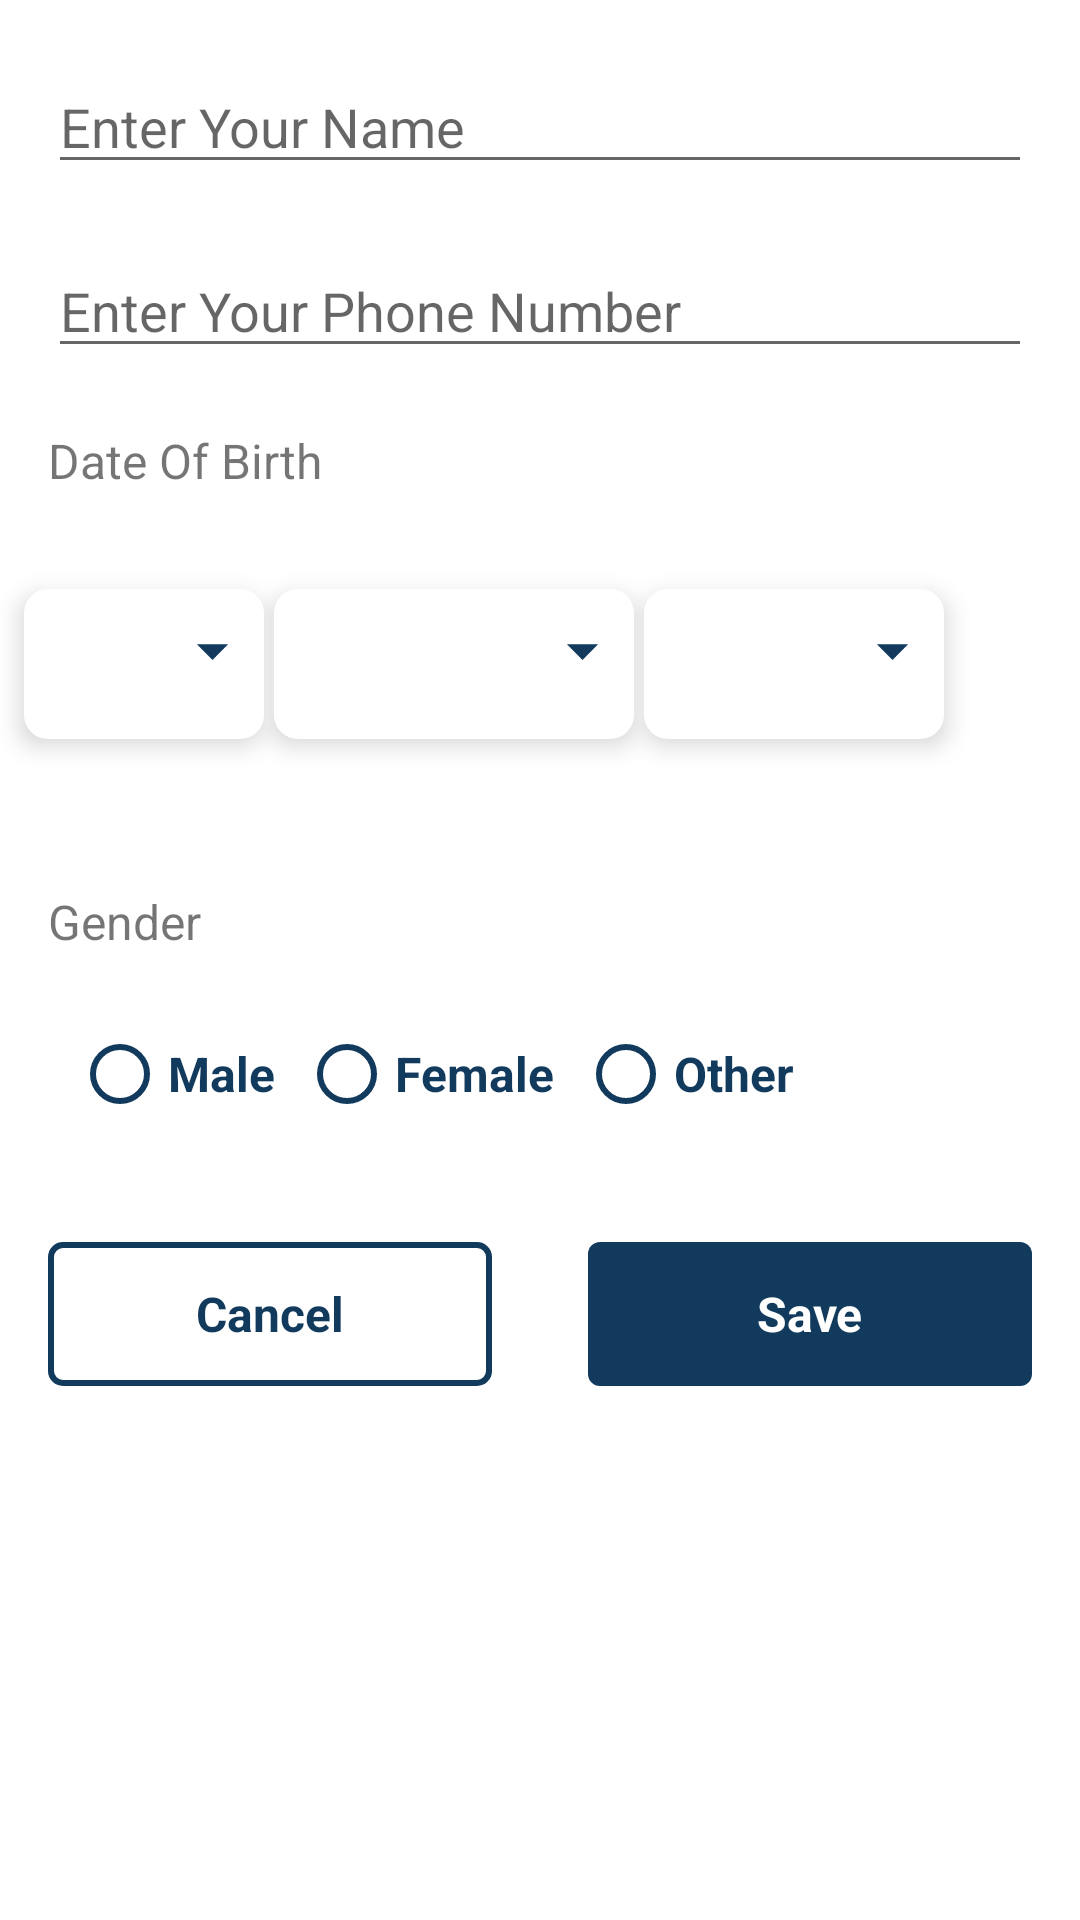

Where icons sit on this 1080x1920 app screen, as (x1, y1, x2, y2):
arrow drop down bllue: (197, 644, 228, 660), (567, 644, 598, 660), (877, 644, 908, 660)
